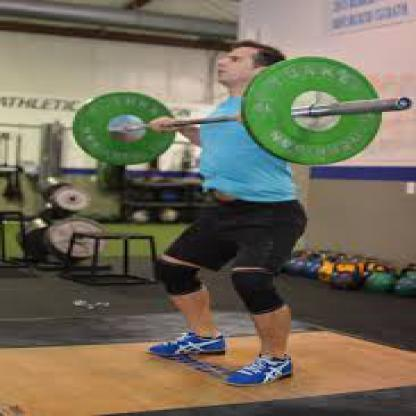barbell: (75, 55, 412, 167)
